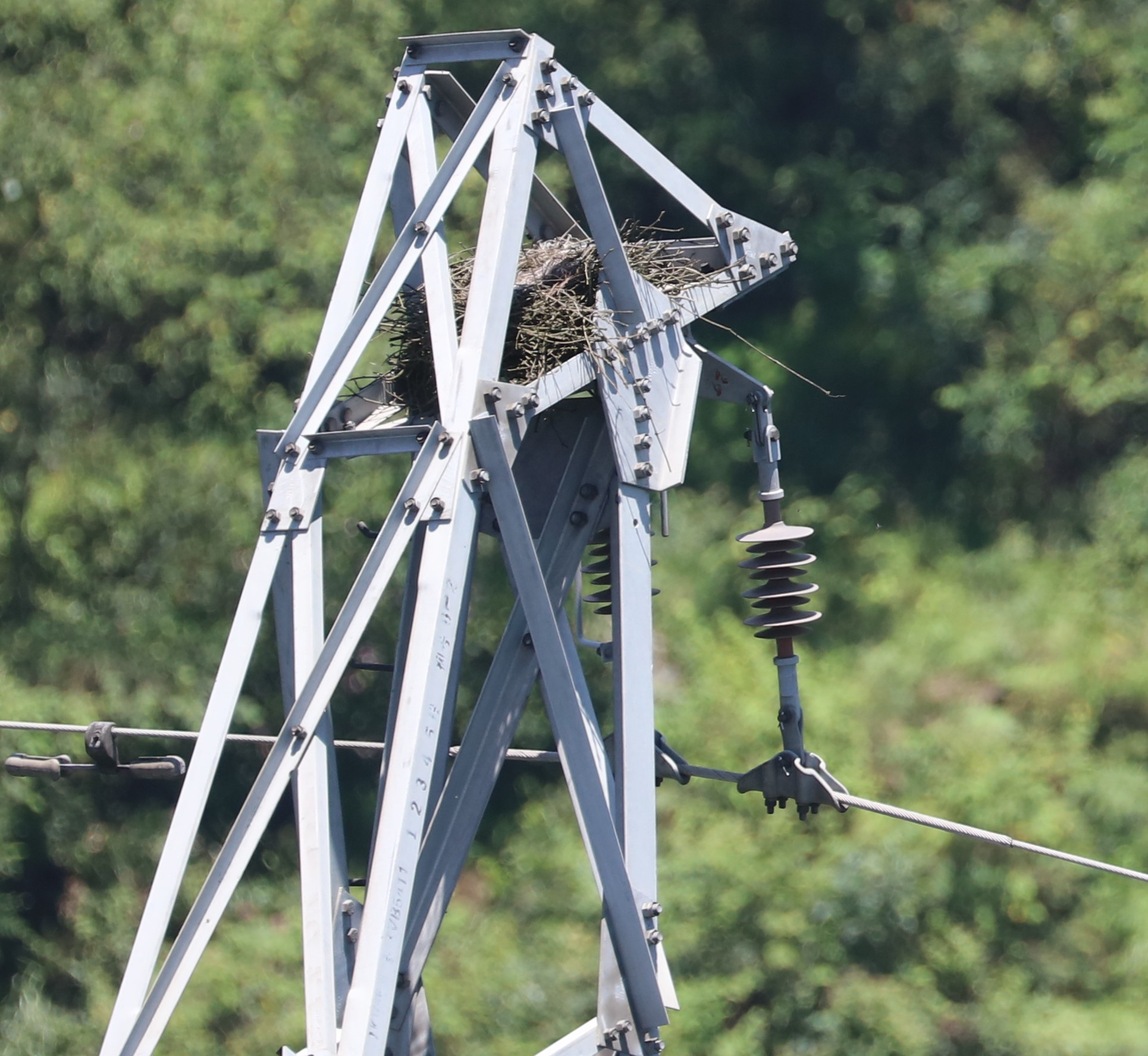damper: (1, 708, 194, 792)
nest: (377, 238, 715, 395)
